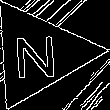N_N: (15, 27, 63, 80)
